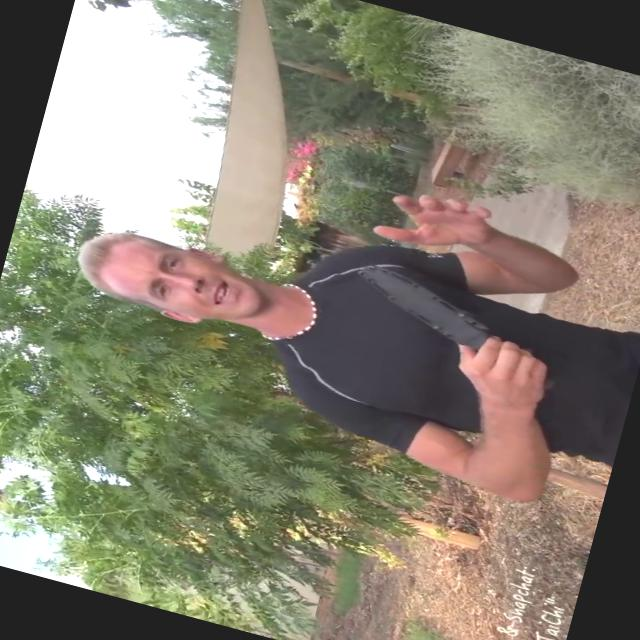knife: (342, 246, 488, 350)
